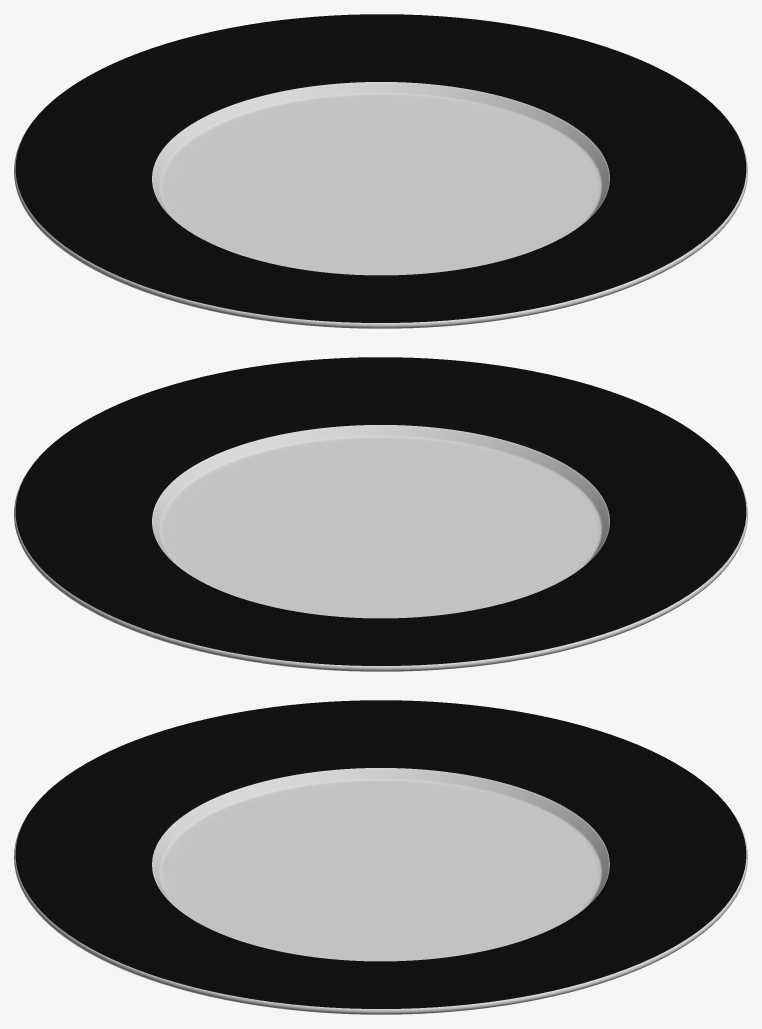
File: Plate.gltf
The picture shows the model from 3 angles, top to bottom: view 1: azimuth 30°, elevation 25°; view 2: azimuth 150°, elevation 25°; view 3: azimuth 270°, elevation 25°; orthographic projection.
Visible parts, largest first — view 1: Cylinder.001; view 2: Cylinder.001; view 3: Cylinder.001.
Part boxes in pixels (box(x1,y1,x2,y2)): Cylinder.001: box(14, 14, 747, 328); Cylinder.001: box(14, 357, 747, 671); Cylinder.001: box(14, 700, 747, 1014).
Size of the model in its own units: 0.2592 by 0.0228 by 0.2592.
2 materials, 1 textured.
